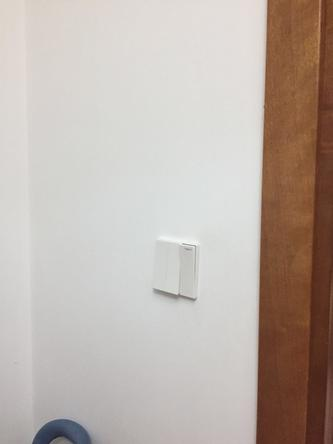switch: (180, 242, 199, 307), (156, 241, 168, 295), (170, 243, 182, 297)
